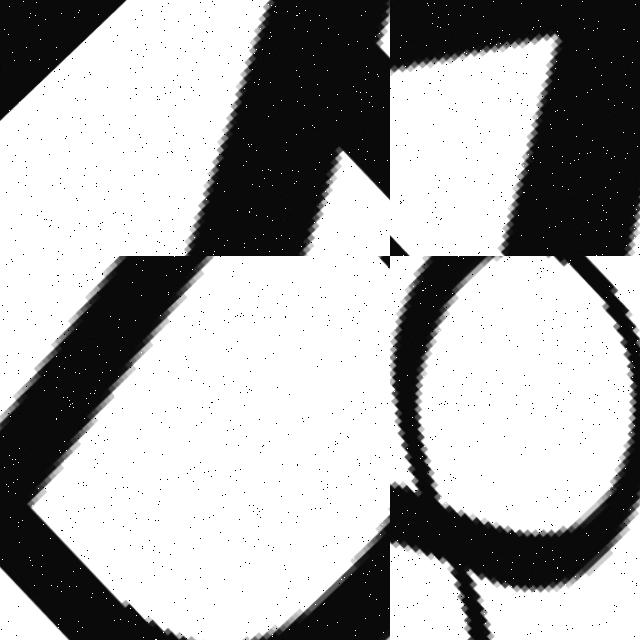8: (390, 256, 640, 640)
A: (0, 0, 390, 256)
D: (0, 256, 390, 640)
Y: (390, 0, 640, 256)
